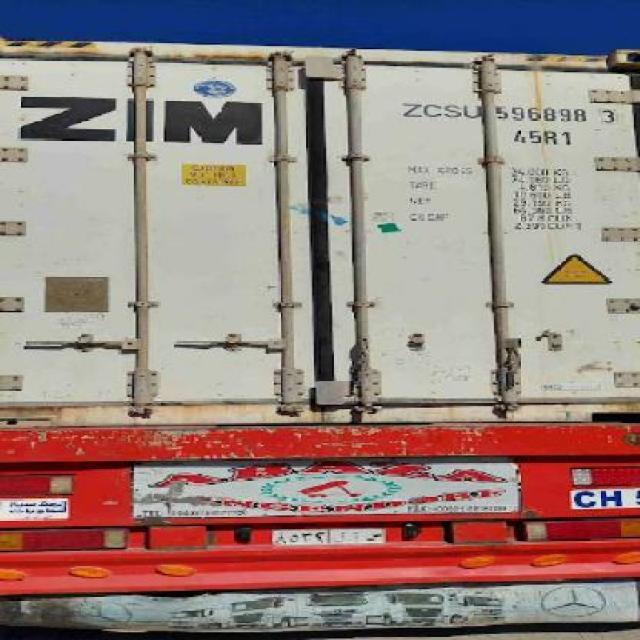ISO: (515, 130, 576, 146)
container_number: (406, 102, 616, 125)
